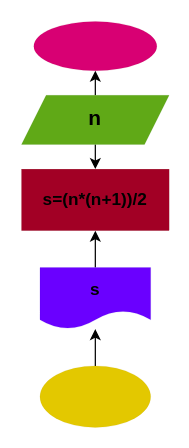
The diagram is 189 pixels wide and 448 high, and some of its shapes have lost their labels. Here are the shapes that lost their labels. From the top down, the centre of each, then its label:
At pixel 94 45: "inicio".
At pixel 94 396: "fin".
